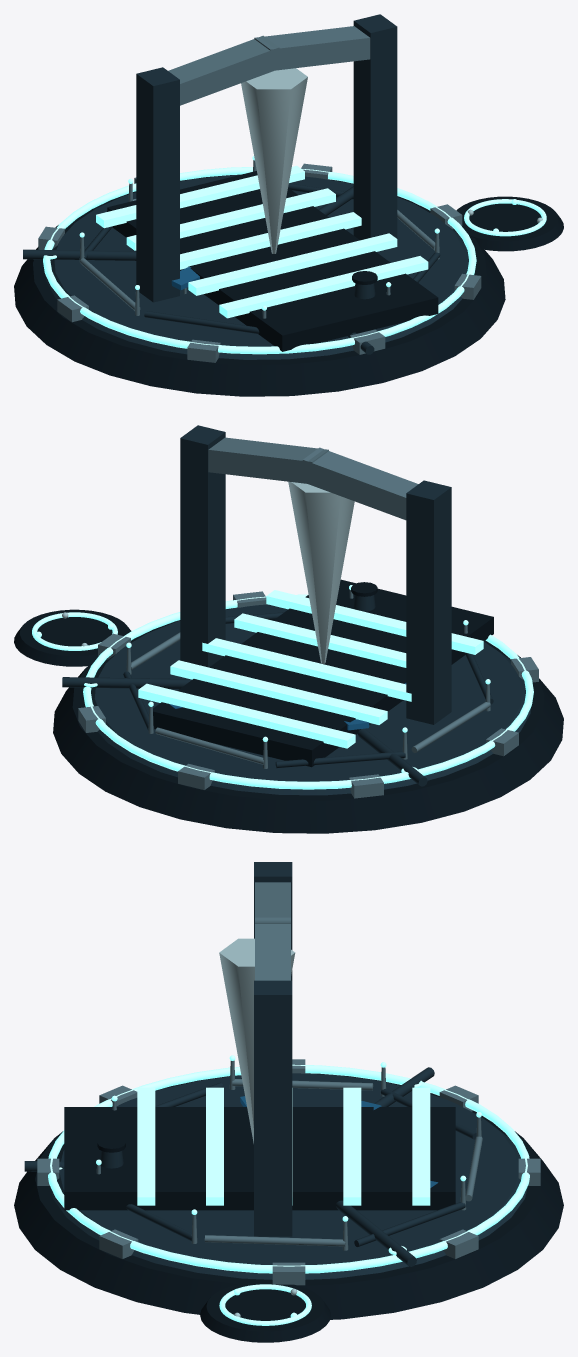
The model's file is shipyard-stage1.glb.
The picture shows the model from 3 angles, top to bottom: view 1: azimuth 30°, elevation 25°; view 2: azimuth 150°, elevation 25°; view 3: azimuth 270°, elevation 25°; orthographic projection. The views are drawn at different scales.
Visible parts, largest first — view 1: armored-foundation, gantry-pillar (×2), construction-trench, upper-deck, dock-light (×5), gantry-crown (×2), hull-under-construction, perimeter-light, landing-pad, utility-conduit-1, landing-guidance-light, service-catwalk-2 (+5 smaller); view 2: armored-foundation, upper-deck, gantry-pillar (×2), construction-trench, dock-light (×5), gantry-crown (×2), hull-under-construction, perimeter-light, landing-pad, utility-conduit-2, service-catwalk-4, landing-guidance-light (+7 smaller); view 3: construction-trench, upper-deck, armored-foundation, gantry-pillar (×2), dock-light (×4), perimeter-light, landing-pad, hull-under-construction, gantry-crown (×2), landing-guidance-light, service-catwalk-7, utility-conduit-2 (+6 smaller).
Part boxes in pixels (bbox=[...]): armored-foundation: bbox=[14, 174, 505, 396]; gantry-pillar (×2): bbox=[136, 14, 397, 302]; construction-trench: bbox=[107, 171, 438, 351]; upper-deck: bbox=[45, 175, 474, 359]; dock-light (×5): bbox=[96, 165, 428, 318]; gantry-crown (×2): bbox=[168, 26, 370, 105]; hull-under-construction: bbox=[241, 68, 307, 253]; perimeter-light: bbox=[43, 167, 476, 354]; landing-pad: bbox=[456, 196, 563, 251]; utility-conduit-1: bbox=[23, 249, 136, 260]; landing-guidance-light: bbox=[464, 199, 546, 236]; service-catwalk-2: bbox=[144, 311, 259, 333]; armored-foundation: bbox=[53, 608, 563, 833]; upper-deck: bbox=[85, 604, 530, 795]; gantry-pillar (×2): bbox=[180, 425, 451, 724]; construction-trench: bbox=[153, 579, 493, 767]; dock-light (×5): bbox=[138, 590, 483, 748]; gantry-crown (×2): bbox=[208, 437, 418, 520]; hull-under-construction: bbox=[288, 481, 354, 663]; perimeter-light: bbox=[83, 594, 533, 789]; landing-pad: bbox=[14, 609, 131, 666]; utility-conduit-2: bbox=[62, 677, 191, 689]; service-catwalk-4: bbox=[275, 751, 405, 768]; landing-guidance-light: bbox=[32, 612, 117, 650]; construction-trench: bbox=[64, 1107, 455, 1210]; upper-deck: bbox=[50, 1073, 527, 1279]; armored-foundation: bbox=[14, 1073, 563, 1319]; gantry-pillar (×2): bbox=[254, 862, 292, 1236]; dock-light (×4): bbox=[137, 1087, 430, 1205]; perimeter-light: bbox=[48, 1064, 529, 1273]; landing-pad: bbox=[200, 1281, 330, 1342]; hull-under-construction: bbox=[219, 938, 295, 1143]; gantry-crown (×2): bbox=[255, 882, 290, 980]; landing-guidance-light: bbox=[219, 1284, 311, 1325]; service-catwalk-7: bbox=[204, 1235, 345, 1246]; utility-conduit-2: bbox=[335, 1200, 416, 1266].
Size of the model in its own units: 9.98 by 4.88 by 8.53.
